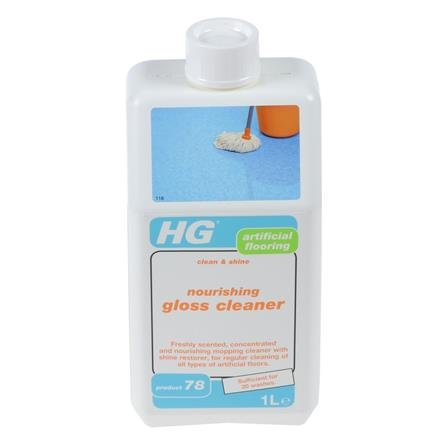Cleaning_solution: (119, 14, 329, 434)
